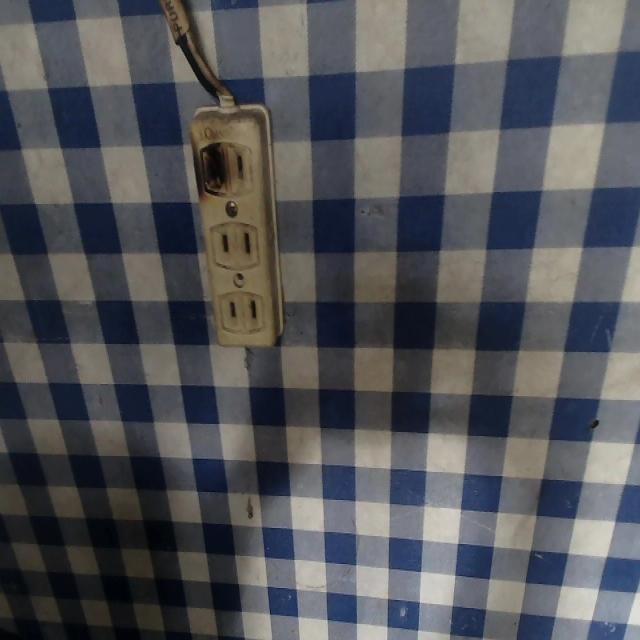-: (191, 137, 234, 192)
